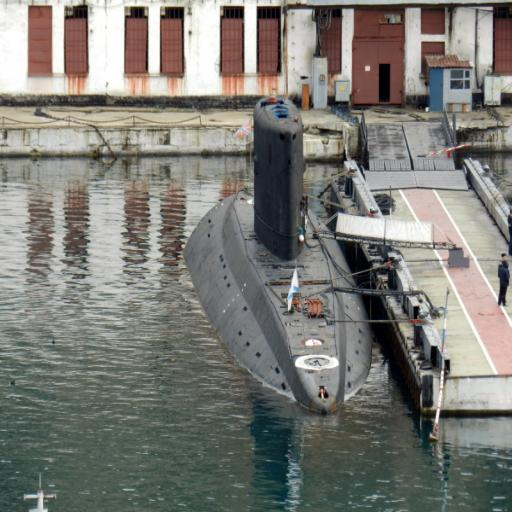submarine: (184, 97, 377, 414)
